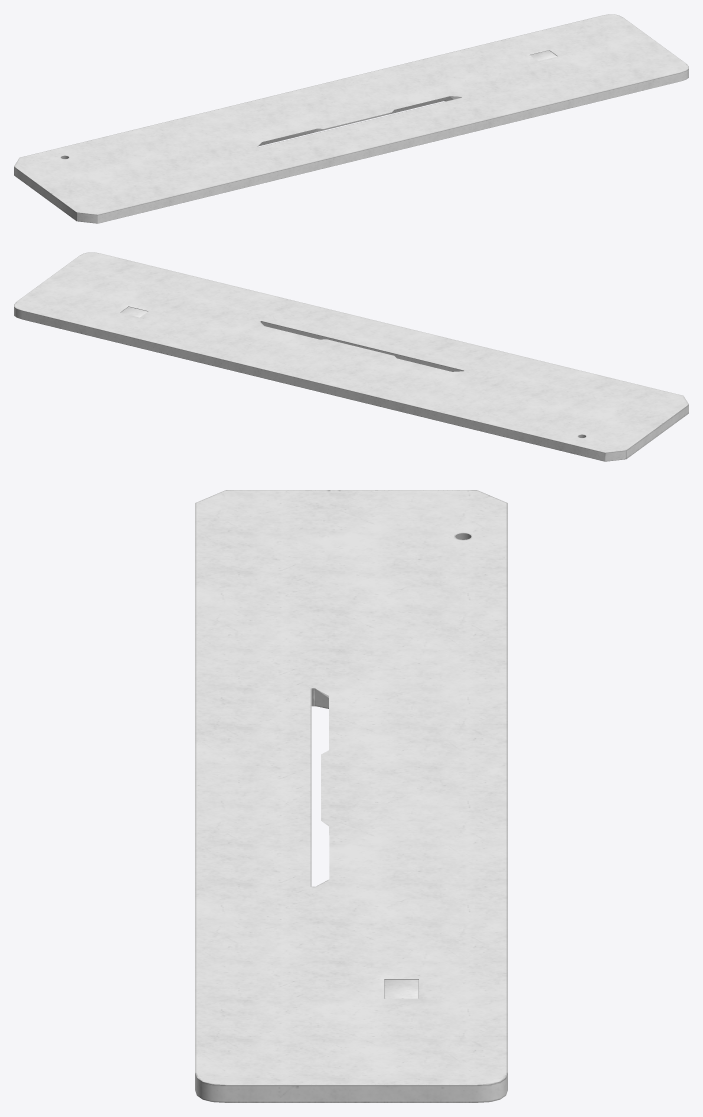
The model's file is DyeSmall.fbx.
The picture shows the model from 3 angles, top to bottom: view 1: azimuth 30°, elevation 25°; view 2: azimuth 150°, elevation 25°; view 3: azimuth 270°, elevation 25°; orthographic projection. The views are drawn at different scales.
Visible parts, largest first — view 1: dYE sMALL; view 2: dYE sMALL; view 3: dYE sMALL.
Boxes of the visible parts, x1,y1,x2,y2 form: dYE sMALL: (14, 14, 688, 223); dYE sMALL: (14, 252, 688, 461); dYE sMALL: (195, 490, 507, 1102).
Size of the model in its own units: 0.4572 by 0.00635 by 0.1016.
1 material, 1 textured.
